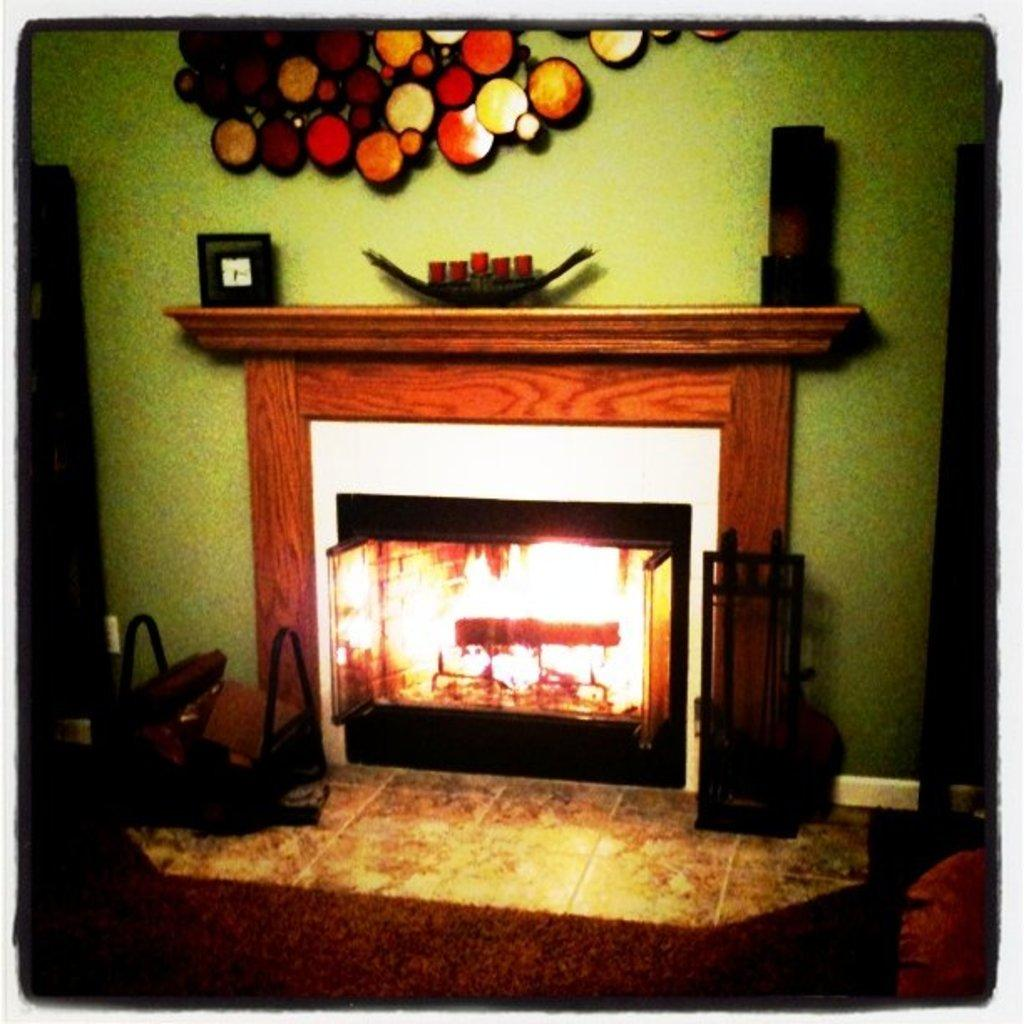Fire: (369, 545, 661, 716)
